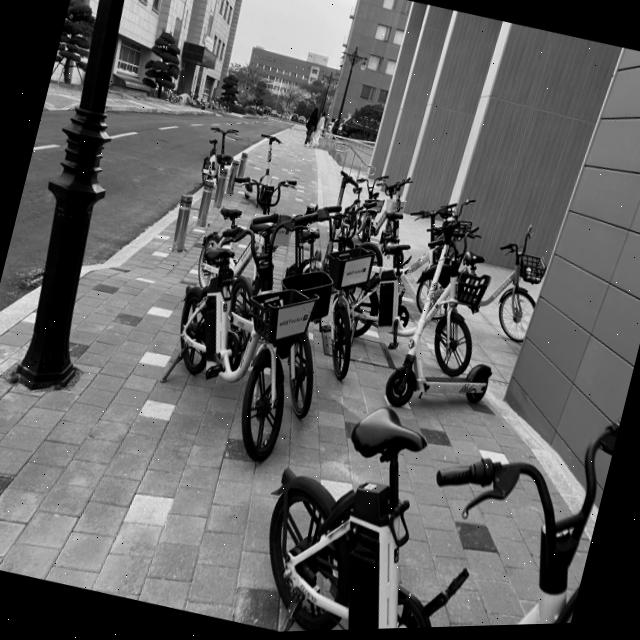ebike_no: (246, 340, 621, 633), (137, 179, 340, 476), (406, 189, 558, 345), (190, 116, 241, 192)
kickboard_no: (236, 124, 297, 210)
